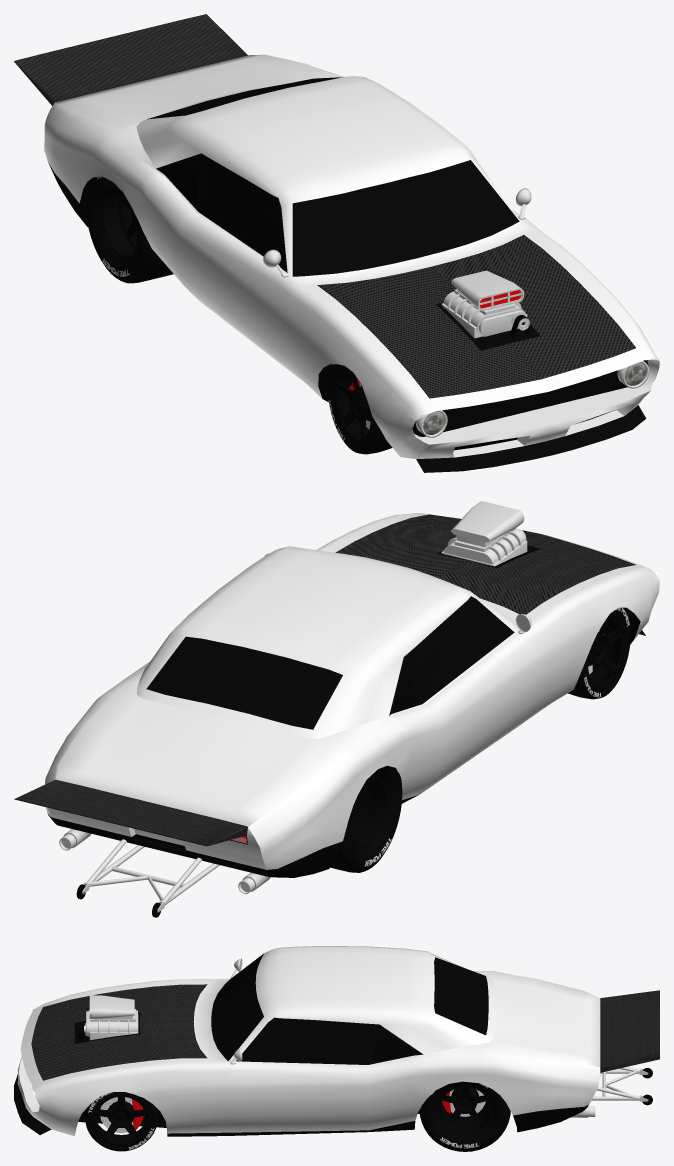
Rendered from car_drag_hi.glb.
3 views of the same model, one above another, from view 1: azimuth 30°, elevation 25°; view 2: azimuth 150°, elevation 25°; view 3: azimuth 270°, elevation 25° (orthographic). The views are drawn at different scales.
Parts seen in each view (by area): view 1: Custom muscle car (drag car).Body, Drag wheel.Wheel.Bk.R_Tire_0, Drag wheel.Wheel.Ft.R_Rim_0, Drag wheel.Wheel.Bk.R_Rim_0, Drag wheel.Wheel.Ft.R_Tire_0; view 2: Custom muscle car (drag car).Body, Drag wheel.Wheel.Bk.R_Tire_0, Drag wheel.Wheel.Ft.R_Rim_0, Drag wheel.Wheel.Bk.R_Rim_0, Drag wheel.Wheel.Ft.R_Tire_0; view 3: Custom muscle car (drag car).Body, Drag wheel.Wheel.Bk.L_Tire_0, Drag wheel.Wheel.Ft.L_Rim_0, Drag wheel.Wheel.Bk.L_Rim_0, Drag wheel.Wheel.Ft.L_Tire_0.
Part boxes in pixels (x1,y1,x2,y2): Custom muscle car (drag car).Body: (14, 14, 659, 472); Drag wheel.Wheel.Bk.R_Tire_0: (85, 176, 173, 283); Drag wheel.Wheel.Ft.R_Rim_0: (331, 367, 372, 446); Drag wheel.Wheel.Bk.R_Rim_0: (101, 186, 136, 258); Drag wheel.Wheel.Ft.R_Tire_0: (328, 364, 392, 454); Custom muscle car (drag car).Body: (14, 501, 659, 917); Drag wheel.Wheel.Bk.R_Tire_0: (330, 765, 402, 872); Drag wheel.Wheel.Ft.R_Rim_0: (586, 612, 627, 691); Drag wheel.Wheel.Bk.R_Rim_0: (351, 776, 386, 848); Drag wheel.Wheel.Ft.R_Tire_0: (568, 607, 630, 699); Custom muscle car (drag car).Body: (14, 946, 659, 1136); Drag wheel.Wheel.Bk.L_Tire_0: (419, 1081, 510, 1151); Drag wheel.Wheel.Ft.L_Rim_0: (91, 1092, 151, 1146); Drag wheel.Wheel.Bk.L_Rim_0: (438, 1086, 492, 1134); Drag wheel.Wheel.Ft.L_Tire_0: (84, 1092, 158, 1151).
Size of the model in its own units: 2.3 by 1.49 by 6.56.
23 materials, 4 textured.
